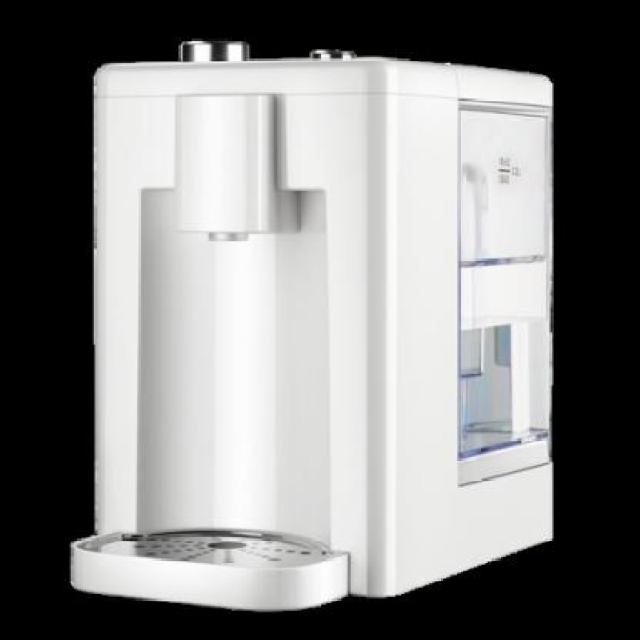cooler: (71, 37, 554, 613)
